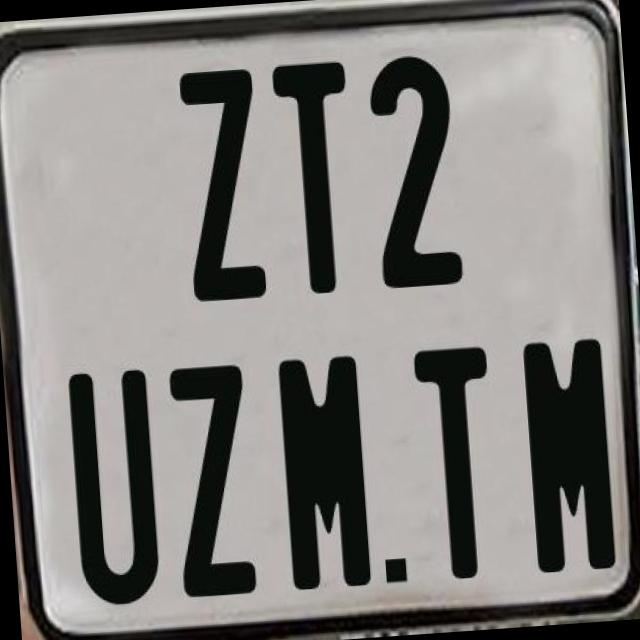2: (367, 48, 464, 293)
M: (278, 354, 380, 594), (520, 334, 620, 573)
T: (410, 342, 504, 586), (268, 60, 364, 297)
U: (62, 364, 160, 604)
Z: (178, 65, 272, 305), (166, 362, 260, 596)
